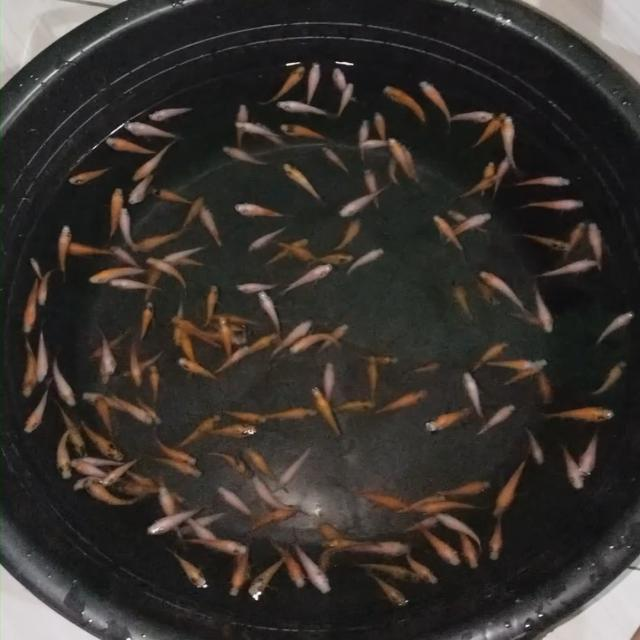nila: (414, 518, 466, 570), (293, 536, 335, 596), (418, 398, 484, 436), (478, 266, 530, 314), (379, 84, 432, 128), (354, 556, 431, 586), (256, 63, 306, 109), (440, 207, 493, 250), (248, 546, 292, 596), (494, 454, 528, 518), (76, 414, 121, 462), (164, 546, 210, 592), (363, 564, 411, 608), (248, 478, 306, 514), (267, 537, 306, 590), (155, 472, 188, 534), (128, 140, 178, 180), (80, 478, 144, 509), (148, 255, 193, 298), (527, 254, 601, 280), (244, 502, 302, 535), (55, 402, 89, 458), (421, 77, 456, 131), (436, 511, 488, 547), (140, 504, 202, 534), (167, 314, 220, 349), (282, 162, 326, 204), (280, 260, 334, 294), (318, 522, 372, 556), (430, 214, 470, 259), (196, 200, 230, 252), (471, 106, 509, 152), (175, 503, 233, 533), (344, 482, 406, 510), (83, 328, 131, 364), (247, 446, 286, 490), (334, 186, 390, 216), (144, 454, 204, 482), (592, 308, 635, 347), (106, 392, 155, 426), (127, 224, 182, 254), (276, 444, 315, 486), (500, 112, 526, 174), (214, 483, 260, 518), (542, 404, 622, 424), (374, 386, 426, 416), (401, 549, 442, 587), (461, 366, 486, 428), (499, 356, 549, 387), (467, 338, 510, 374), (23, 377, 50, 434), (270, 318, 318, 350), (590, 360, 630, 398), (85, 262, 151, 285), (49, 354, 77, 408), (200, 448, 250, 478), (192, 537, 254, 561), (101, 450, 146, 483), (394, 488, 447, 516), (476, 398, 515, 436), (153, 430, 199, 462), (180, 413, 222, 448), (560, 444, 590, 493), (576, 427, 602, 483), (312, 388, 341, 438), (288, 331, 350, 354), (416, 496, 483, 517), (457, 171, 500, 203), (270, 238, 318, 266), (83, 390, 141, 413), (530, 280, 553, 338), (444, 275, 473, 320), (116, 204, 142, 254), (517, 230, 571, 254), (278, 121, 334, 144), (106, 273, 164, 295), (220, 143, 265, 171), (266, 234, 308, 264), (176, 356, 221, 384), (455, 396, 497, 426), (122, 349, 160, 382), (467, 270, 500, 308), (262, 290, 288, 338), (243, 223, 286, 252), (224, 554, 252, 598), (328, 218, 364, 252), (51, 238, 112, 258), (388, 134, 416, 177), (341, 538, 416, 554), (122, 120, 182, 140), (176, 192, 206, 232), (104, 239, 144, 269), (560, 218, 586, 264), (230, 202, 296, 220), (344, 247, 386, 275), (448, 208, 497, 232), (181, 514, 220, 544), (437, 476, 492, 497), (132, 394, 168, 426), (22, 336, 40, 400), (94, 392, 120, 436), (106, 185, 125, 245), (513, 172, 573, 191), (142, 258, 169, 300), (64, 165, 113, 188), (102, 137, 158, 157), (400, 141, 424, 187), (55, 426, 74, 484), (274, 98, 335, 116), (35, 320, 53, 381), (112, 480, 180, 496), (262, 406, 322, 424), (202, 424, 262, 442), (588, 218, 608, 272), (508, 304, 548, 331), (438, 106, 494, 125), (125, 172, 156, 206), (178, 330, 203, 372), (147, 184, 194, 206), (213, 318, 237, 361), (522, 427, 549, 465), (143, 104, 194, 124), (531, 363, 555, 405), (98, 323, 117, 376), (256, 118, 289, 148), (332, 64, 358, 102), (334, 80, 357, 122), (199, 281, 219, 328), (490, 511, 508, 563), (22, 278, 38, 336), (460, 526, 480, 572), (208, 310, 262, 327), (477, 358, 537, 373), (57, 222, 73, 278), (524, 198, 592, 211), (235, 120, 284, 138), (229, 278, 284, 294), (68, 460, 112, 480), (494, 154, 514, 198), (394, 517, 434, 539), (220, 345, 250, 374), (235, 538, 252, 589), (348, 350, 402, 366), (364, 354, 382, 402), (170, 297, 187, 347), (126, 342, 144, 389), (323, 146, 351, 176), (318, 534, 378, 548), (70, 454, 130, 468), (232, 104, 250, 150), (162, 254, 208, 272), (222, 407, 270, 424), (322, 323, 348, 354), (404, 358, 446, 377), (136, 299, 154, 342), (120, 467, 158, 487), (306, 63, 324, 105), (36, 266, 54, 308), (479, 156, 496, 200), (385, 148, 404, 186), (247, 332, 276, 356), (202, 332, 250, 346), (307, 252, 353, 266), (333, 398, 379, 412), (366, 170, 382, 210), (322, 362, 337, 404), (319, 544, 341, 572), (148, 367, 164, 405), (358, 118, 372, 161), (166, 240, 206, 254), (99, 349, 112, 389), (373, 112, 390, 142), (356, 138, 398, 150), (70, 476, 99, 491), (28, 256, 43, 280), (216, 324, 247, 334)
